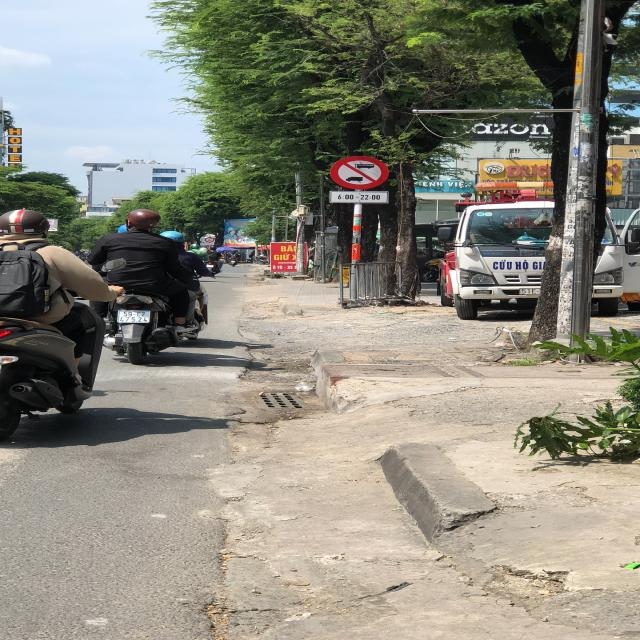Bien bao cam xe oto khach va xe oto tai: (328, 154, 387, 188)
